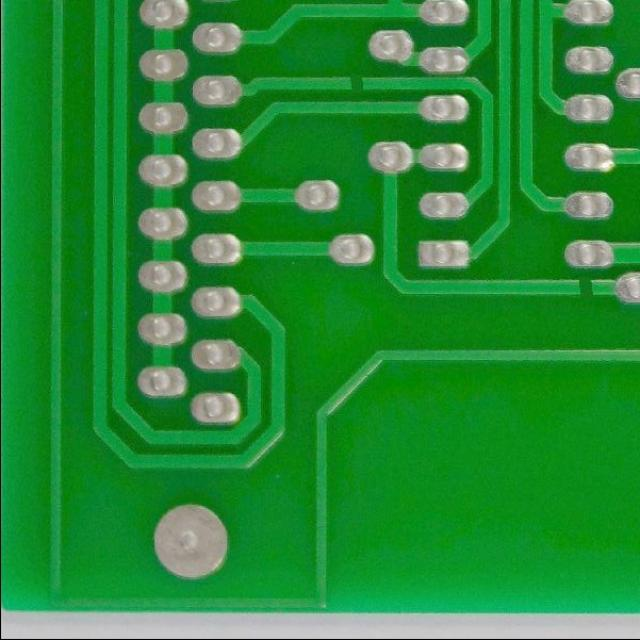open_circuit: (565, 274, 604, 304), (341, 70, 367, 97)
